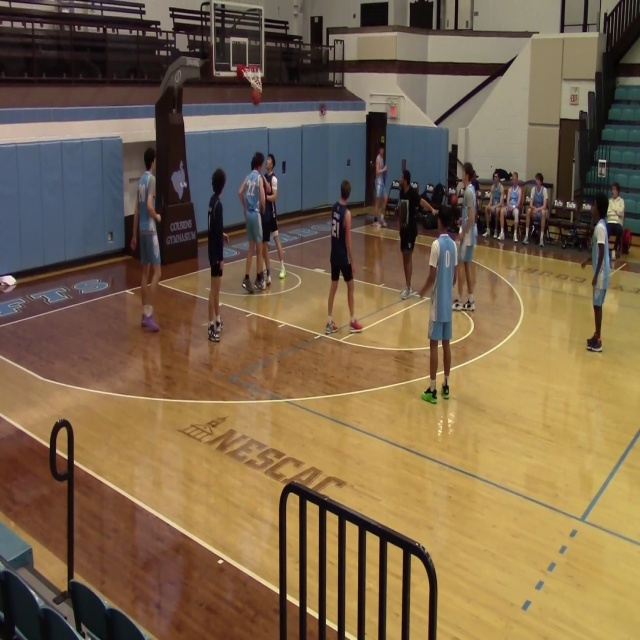Basketball: (251, 89, 261, 105)
